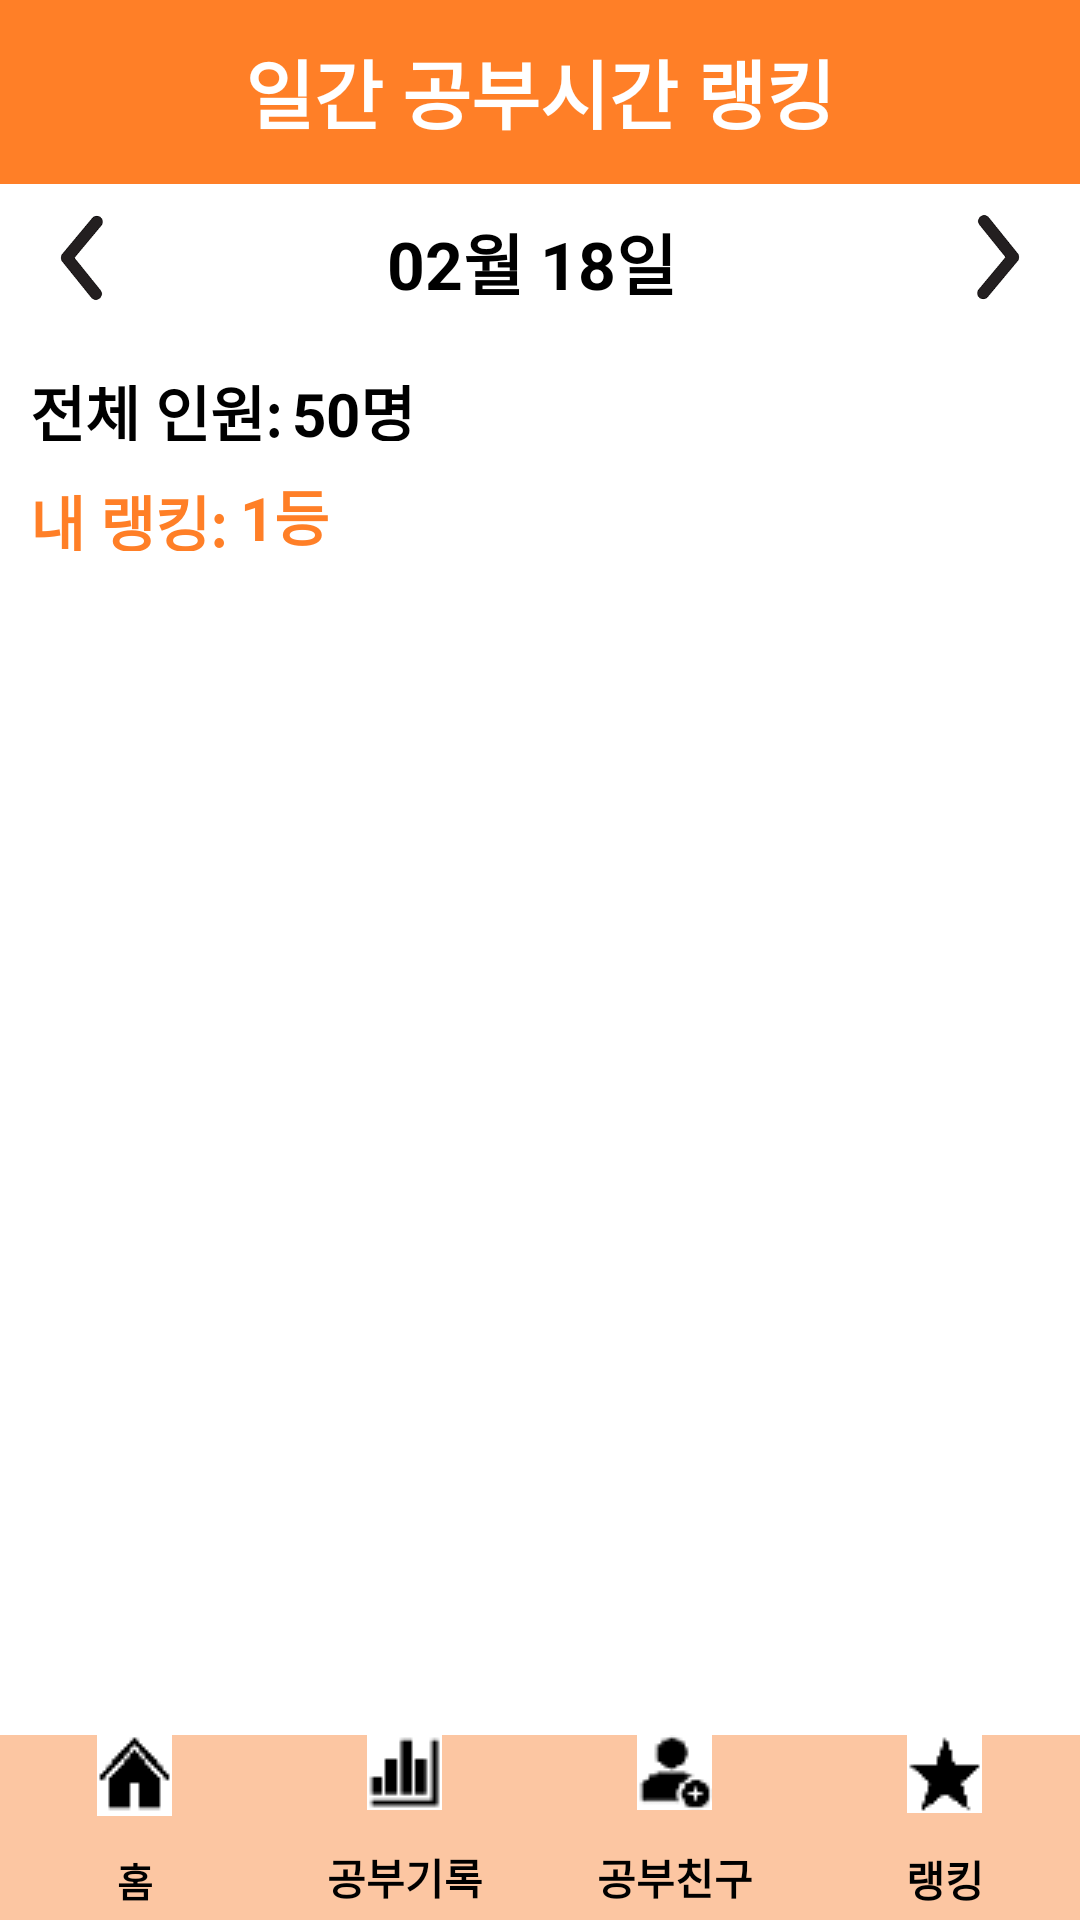

Named icons in this screenshot (1080px x 1920px) and their bounding boxes, bbox(x1, y1, x2, y2):
lefticon rank: bbox(61, 216, 103, 300)
righticon rank: bbox(977, 215, 1019, 299)
